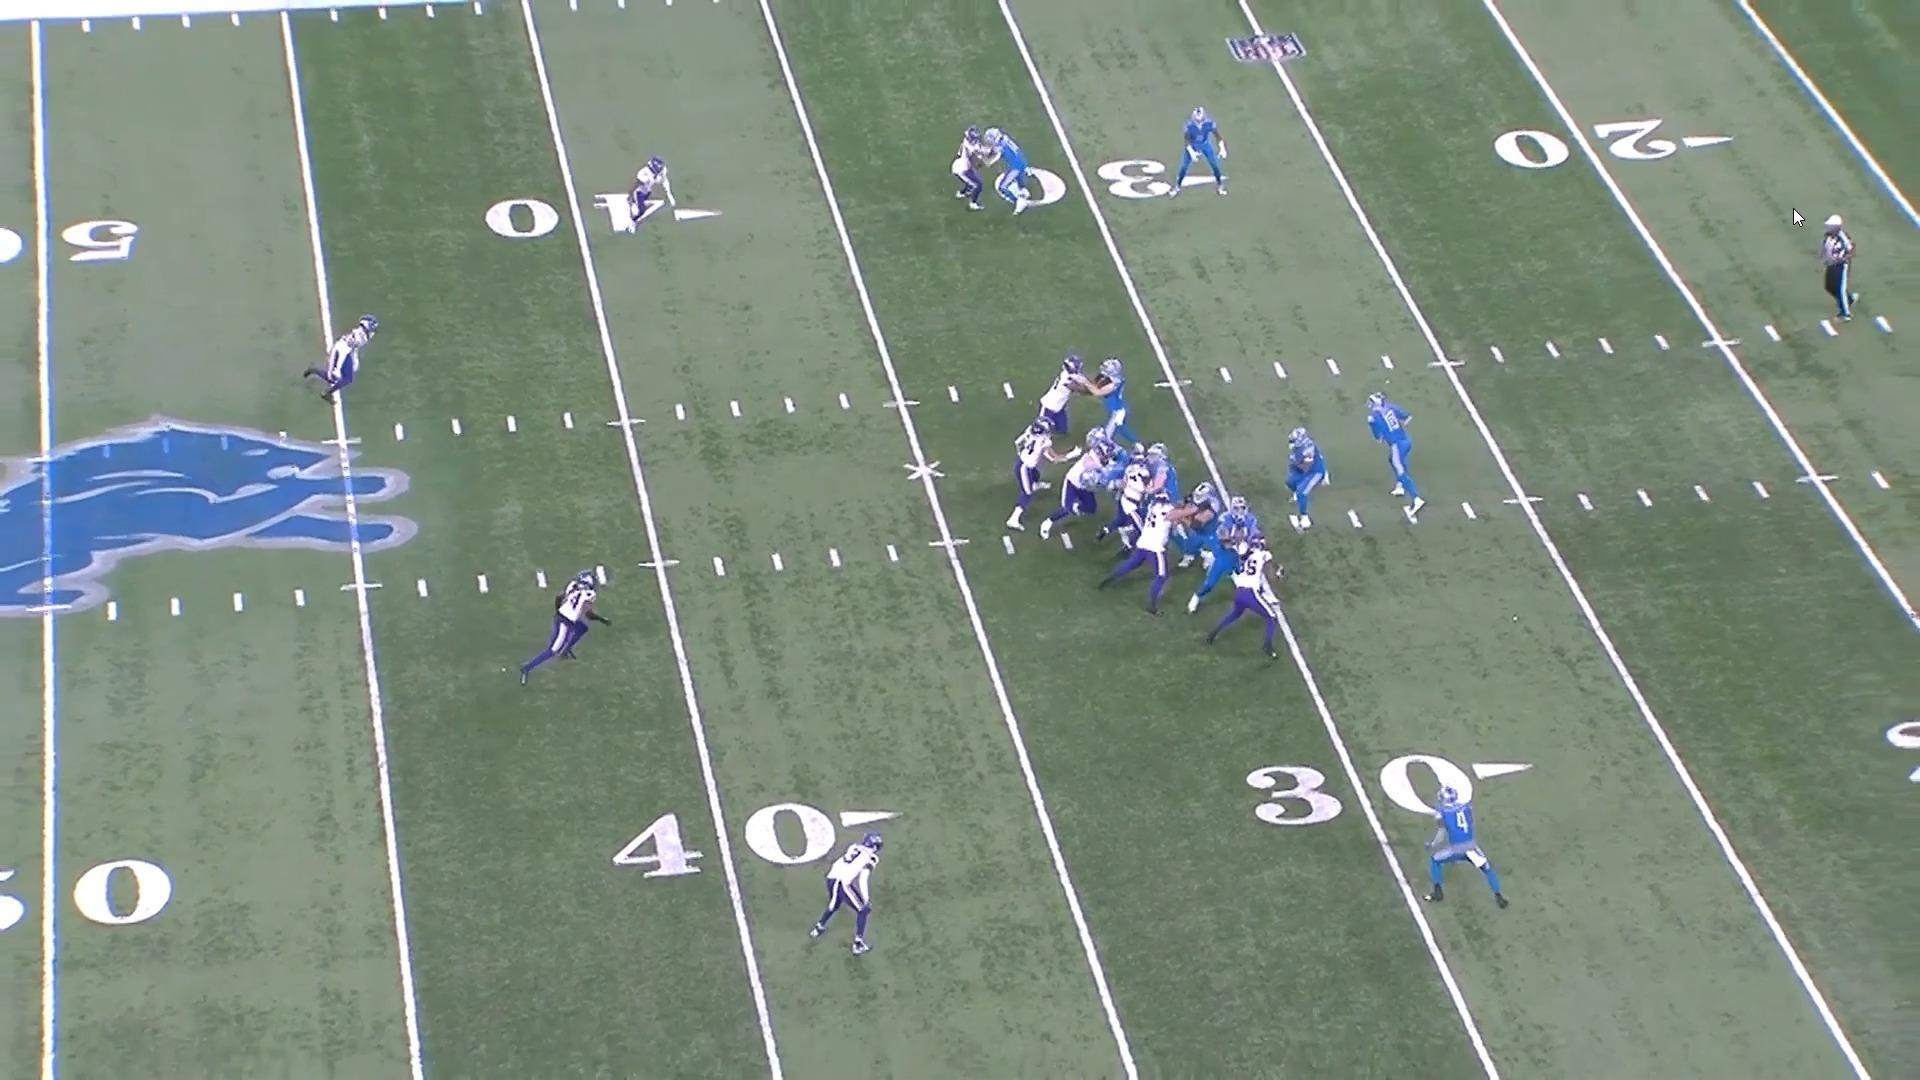20R: (1494, 117, 1737, 170)
30R: (1244, 752, 1538, 828), (996, 157, 1226, 206)
40R: (611, 800, 905, 881), (483, 191, 723, 241)
50: (0, 858, 174, 931), (0, 219, 137, 265)
